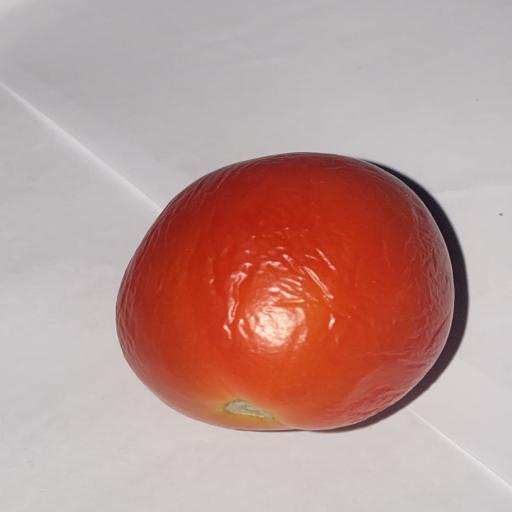spoiled: (116, 153, 454, 430)
